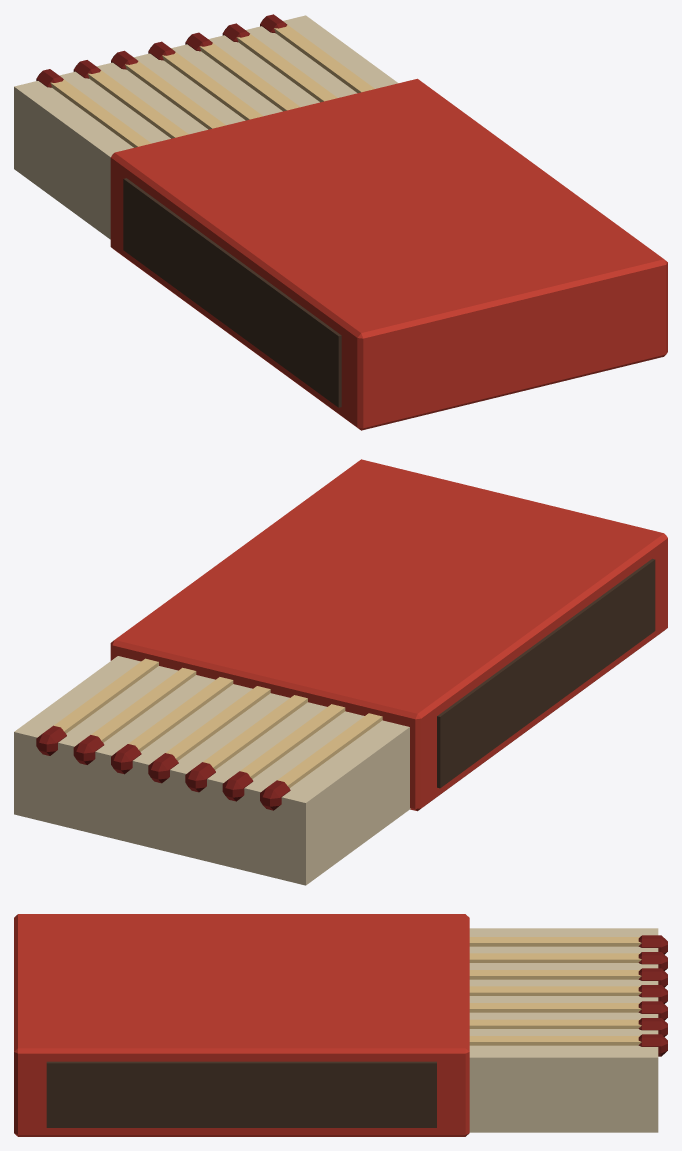
The model's file is matchbox.glb.
The picture shows the model from 3 angles, top to bottom: view 1: azimuth 30°, elevation 25°; view 2: azimuth 150°, elevation 25°; view 3: azimuth 270°, elevation 25°; orthographic projection. The views are drawn at different scales.
Visible parts, largest first — view 1: matchbox; view 2: matchbox; view 3: matchbox.
Boxes of the visible parts, bbox=[...] form: matchbox: bbox=[14, 14, 667, 430]; matchbox: bbox=[14, 459, 667, 885]; matchbox: bbox=[14, 914, 667, 1136].
Bounding box in the file's own units: 0.05 × 0.0147 × 0.0985.
